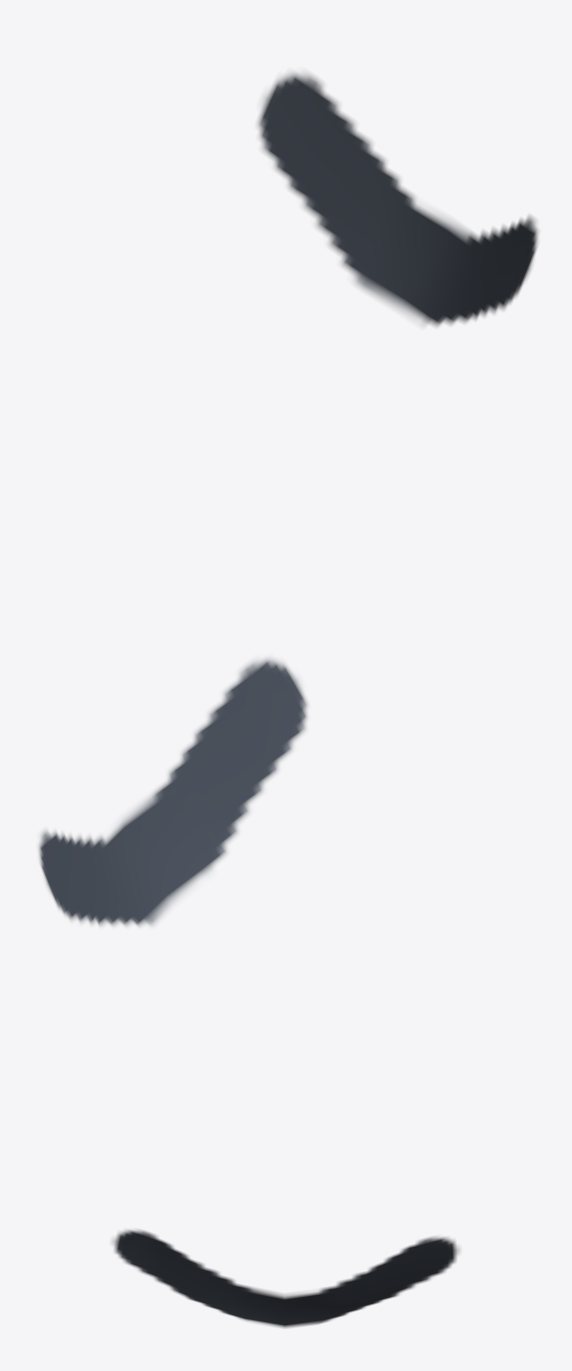
File: Mouth.glb
3 renders of one model, top to bottom at view 1: azimuth 30°, elevation 25°; view 2: azimuth 150°, elevation 25°; view 3: azimuth 270°, elevation 25°, orthographic. The views are drawn at different scales.
Visible parts, largest first — view 1: Mouth; view 2: Mouth; view 3: Mouth.
Part boxes in pixels (x1,y1,x2,y2): Mouth: [256, 70, 538, 327]; Mouth: [37, 655, 310, 928]; Mouth: [112, 1229, 460, 1328].
Size of the model in its own units: 0.1361 by 0.1355 by 0.2601.
1 material, 1 textured.
